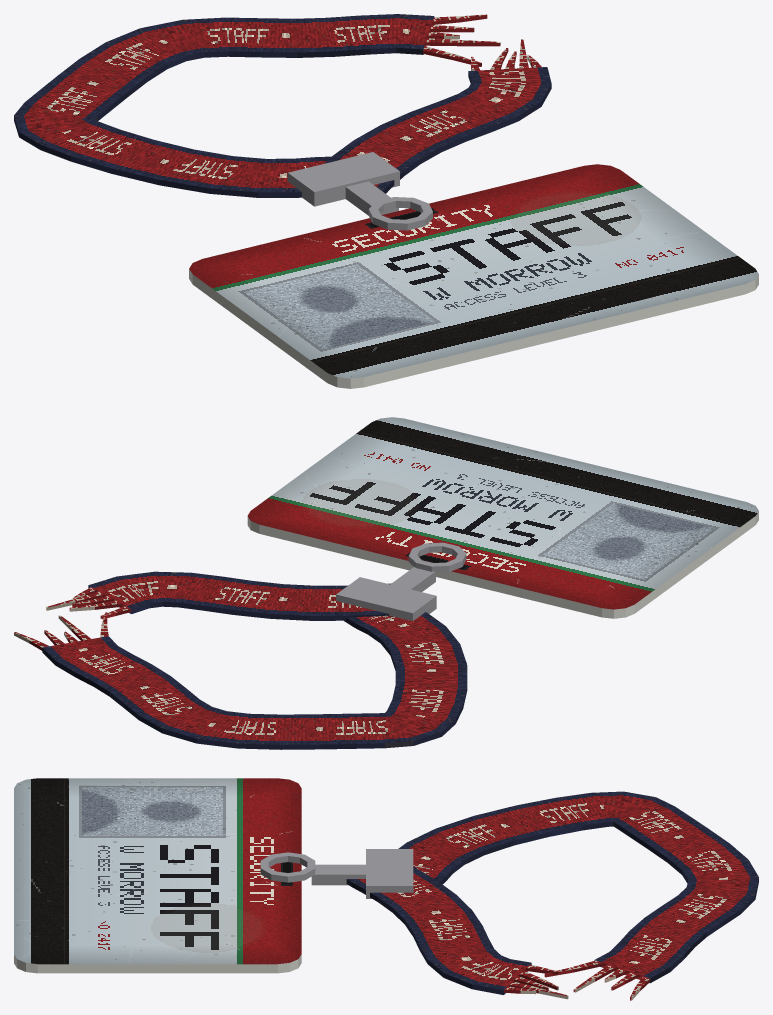
Rendered from keycard.glb.
3 renders of one model, top to bottom at view 1: azimuth 30°, elevation 25°; view 2: azimuth 150°, elevation 25°; view 3: azimuth 270°, elevation 25°, orthographic. The views are drawn at different scales.
Visible parts, largest first — view 1: keycard; view 2: keycard; view 3: keycard.
Boxes of the visible parts, x1,y1,x2,y2 form: keycard: [14, 14, 758, 388]; keycard: [14, 417, 758, 749]; keycard: [14, 778, 758, 1000].
Bounding box in the file's own units: 0.1499 × 0.0052 × 0.2202.
Materials: 3 (2 with a texture image).
